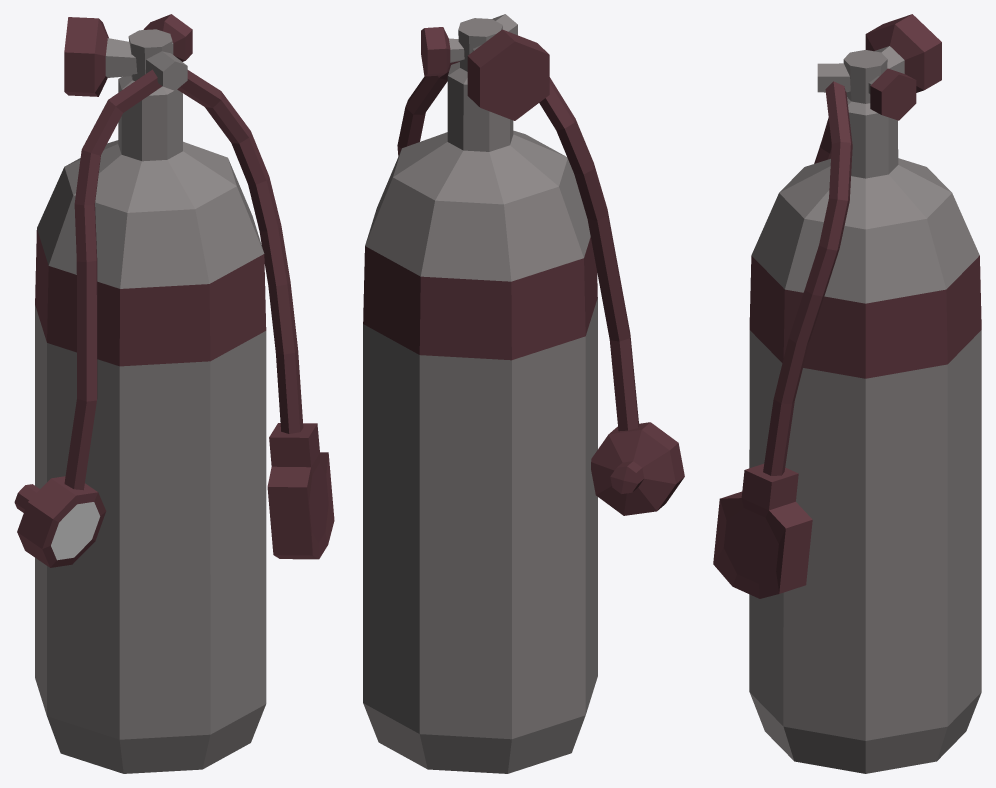
The model's file is scuba-tank.fbx.
3 views of the same model, side by side, from view 1: azimuth 30°, elevation 25°; view 2: azimuth 150°, elevation 25°; view 3: azimuth 270°, elevation 25° (orthographic). The views are drawn at different scales.
Parts seen in each view (by area): view 1: scuba-tank; view 2: scuba-tank; view 3: scuba-tank.
Part boxes in pixels (x1,y1,x2,y2): scuba-tank: (14, 14, 334, 773); scuba-tank: (363, 14, 684, 773); scuba-tank: (713, 14, 981, 773).
Bounding box in the file's own units: 0.3244 × 0.7288 × 0.2572.
